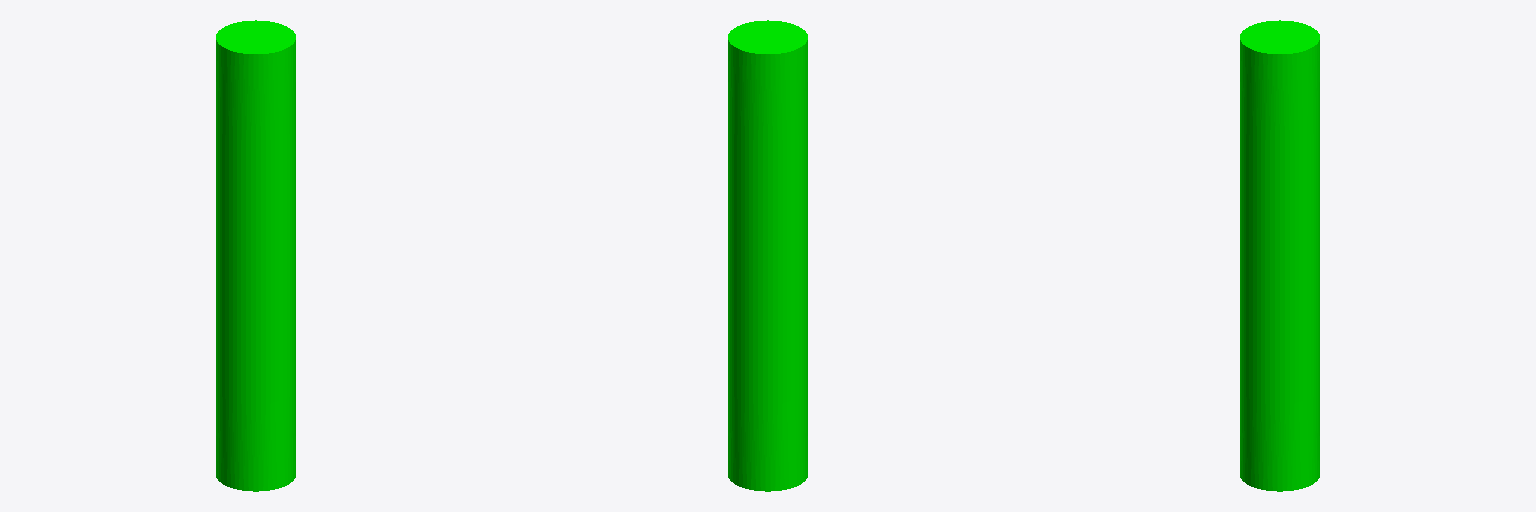
The robot description file, URDF, robot "Cylinder_v6_10_60":
<robot name="Cylinder_v6_10_60">
	<link name="object">
		<visual>
			<origin xyz="3.845947787938731e-10 6.448028544738113e-19 -0.6000000000000001" rpy="0.0 0.0 0.0" />
			<geometry>
				<mesh filename="Cylinder_v6_10_60/Cylinder_v6_10_60.obj" scale="0.02 0.02 0.02" />
			</geometry>
			<material name="texture">
				<color rgba="0.0 1.0 0.0 1.0" />
			</material>
		</visual>
		<collision>
			<origin xyz="3.845947787938731e-10 6.448028544738113e-19 -0.6000000000000001" rpy="0.0 0.0 0.0" />
			<geometry>
				<mesh filename="Cylinder_v6_10_60/Cylinder_v6_10_60_vhacd.obj" scale="0.02 0.02 0.02" />
			</geometry>
		</collision>
		<inertial>
			<mass value="0.020" />
			<inertia ixx="1.0" ixy="0.0" ixz="0.0" iyy="1.0" iyz="0.0" izz="1.0" />
		</inertial>
	</link>
</robot>

--- What the picture shows (computed from the rendered views, not written in the file) ---
Views: 3 orthographic renders of the robot side by side, from view 1: azimuth 30°, elevation 25°; view 2: azimuth 150°, elevation 25°; view 3: azimuth 270°, elevation 25°.
Robot: Cylinder_v6_10_60 — 1 links, 0 joints (none); root link object; default pose: every joint at zero.
Visible links, largest first — view 1: object; view 2: object; view 3: object.
Boxes of the visible links, x1,y1,x2,y2 form: object: [216, 20, 295, 491]; object: [728, 20, 807, 491]; object: [1240, 20, 1319, 491].
Size in the robot's own frame: 0.2 by 0.1999 by 1.2 metres.
Meshes: 1 distinct files referenced, 1 mesh visuals loaded (1 OBJ).